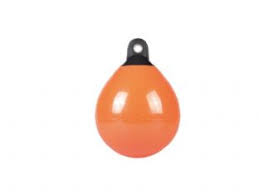buoy: (95, 65, 181, 158)
